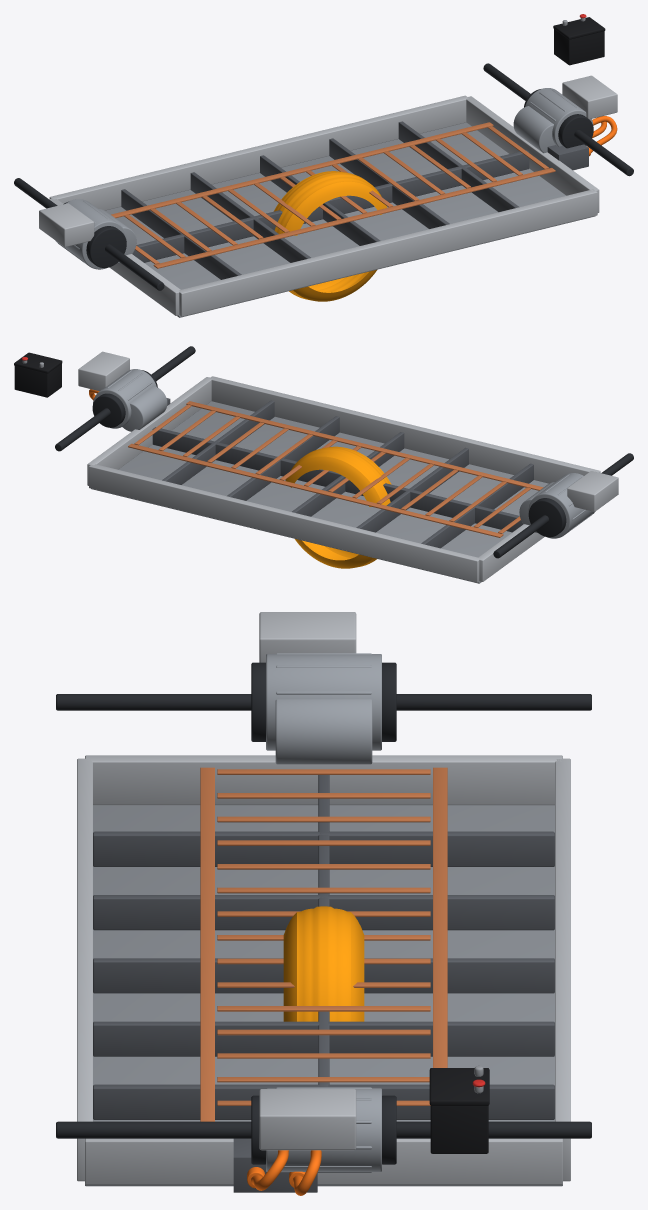
Rendered from parts.glb.
3 renders of one model, top to bottom at view 1: azimuth 30°, elevation 25°; view 2: azimuth 150°, elevation 25°; view 3: azimuth 270°, elevation 25°, orthographic. The views are drawn at different scales.
Parts seen in each view (by area): view 1: hv_frame, hv_cooling, hv_busbar, motor_front, motor_rear, tyre_shell, lv_battery, hv_harness; view 2: hv_frame, hv_cooling, hv_busbar, motor_front, motor_rear, tyre_shell, lv_battery; view 3: hv_frame, hv_cooling, hv_busbar, motor_rear, motor_front, tyre_shell, lv_battery, hv_harness.
Part boxes in pixels (left/top/right/bottom): hv_frame: left=49, top=95, right=599, bottom=316; hv_cooling: left=105, top=122, right=595, bottom=317; hv_busbar: left=111, top=122, right=555, bottom=268; motor_front: left=483, top=63, right=633, bottom=176; motor_rear: left=14, top=178, right=164, bottom=290; tyre_shell: left=274, top=171, right=387, bottom=301; lv_battery: left=553, top=14, right=605, bottom=65; hv_harness: left=547, top=116, right=617, bottom=170; hv_frame: left=87, top=376, right=600, bottom=582; hv_cooling: left=91, top=401, right=548, bottom=583; hv_busbar: left=128, top=401, right=543, bottom=537; motor_front: left=55, top=346, right=195, bottom=451; motor_rear: left=493, top=453, right=633, bottom=558; tyre_shell: left=285, top=446, right=391, bottom=568; lv_battery: left=14, top=352, right=62, bottom=397; hv_frame: left=77, top=755, right=570, bottom=1184; hv_cooling: left=85, top=805, right=562, bottom=1186; hv_busbar: left=200, top=767, right=447, bottom=1121; motor_rear: left=56, top=612, right=591, bottom=764; motor_front: left=56, top=1087, right=591, bottom=1172; tyre_shell: left=283, top=906, right=364, bottom=1021; lv_battery: left=429, top=1065, right=489, bottom=1153; hv_harness: left=233, top=1138, right=321, bottom=1195.
Bounding box in the file's own units: 3.92 × 1.15 × 1.66.
